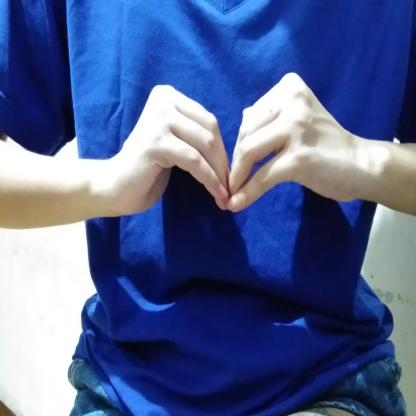how: (99, 68, 355, 226)
